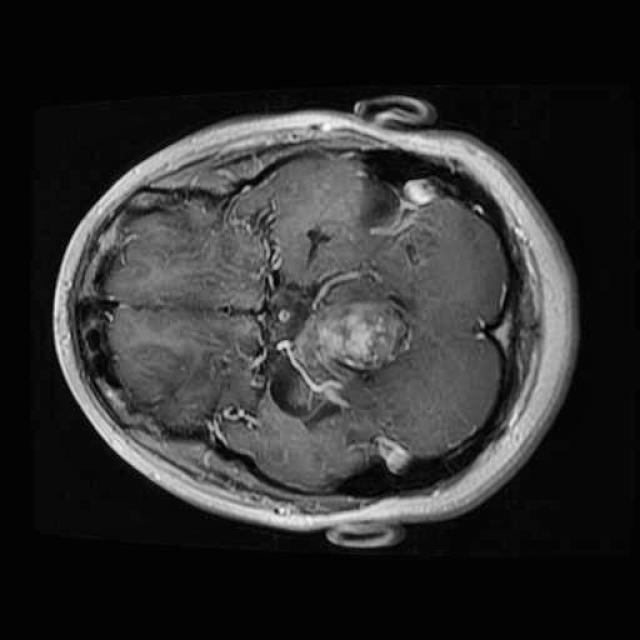Tumor: (284, 279, 438, 402)
